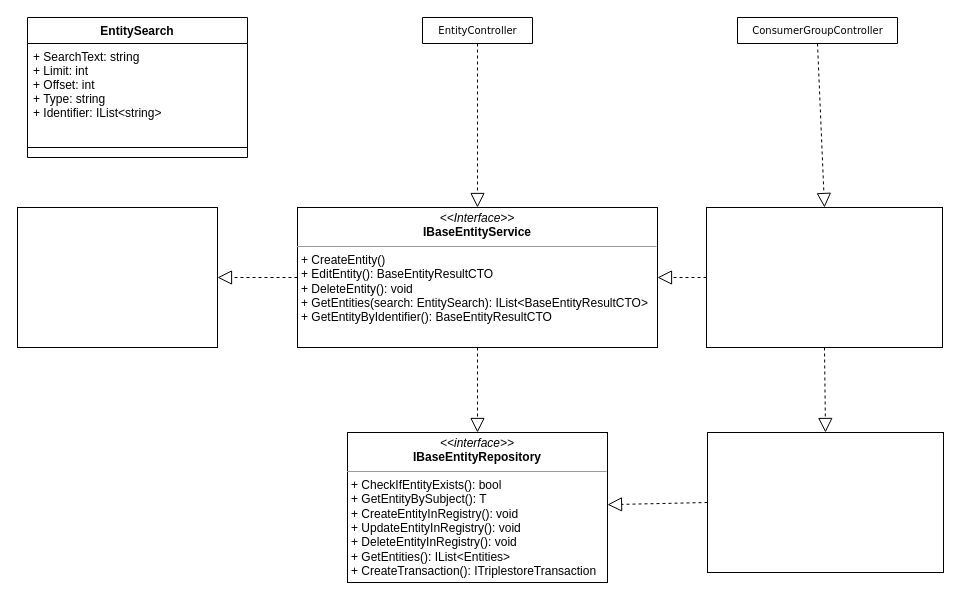
This 961x600 diagram has some shape labels left out. Each missing label, with the box of its shape:
<<Interface>> IBaseConsumerGroupService + GetAdRoleForConsumerGroup(): string: (706, 206, 942, 348)
<<Interface>> IConsumerGroupRepository + GetAdRoleForConsumerGroup(): string: (706, 432, 944, 572)
<<Interface>> IValidationService + ValidateEntity(): ValidationResult: (16, 206, 218, 348)
